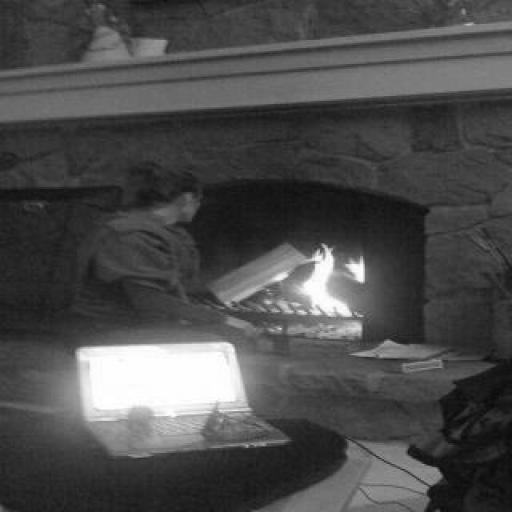smoke: (282, 238, 374, 320)
